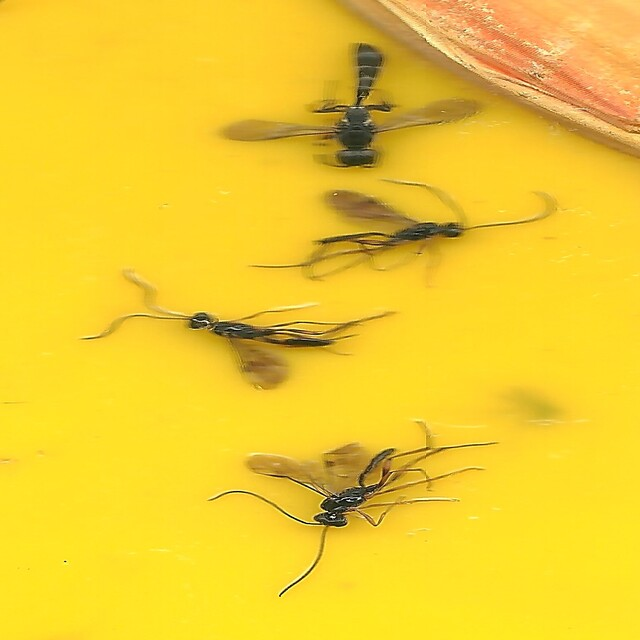Hymenoptera: (211, 421, 488, 598), (82, 270, 393, 391), (223, 42, 486, 171), (252, 179, 558, 283)
